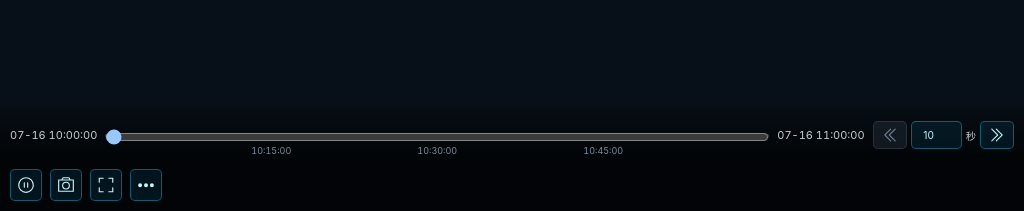
PlayerControls › 回放时间轴展示首尾时刻、跨度刻度和悬停时刻
The image size is (1024, 211).
Expected: the element with class "timeline" is shown, top-left (10, 111), bottom-right (1014, 159)
Expected: the button named "暂停" is shown, top-left (10, 169), bottom-right (42, 201)
What coordinates should you click on to do the following:
click the button named "更多操作"
I would click on:
 (146, 185)
Its box is top-left (130, 169), bottom-right (162, 201).
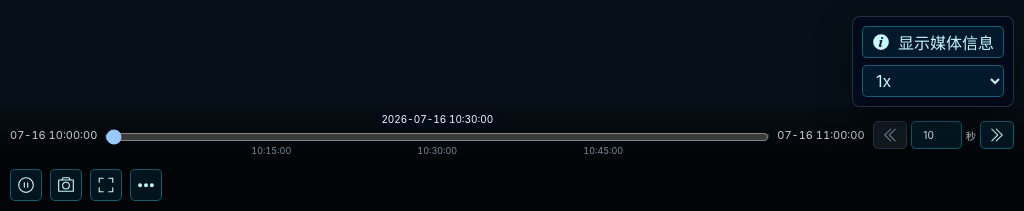
Expected: the text "07-16 10:00:00" is shown, top-left (10, 128), bottom-right (97, 142)
Now the dropdown named "播放倍速" is shown, box top-left (862, 65), bottom-right (1004, 97)
Now the text "2026-07-16 10:30:00" is shown, box top-left (376, 111), bottom-right (498, 128)
